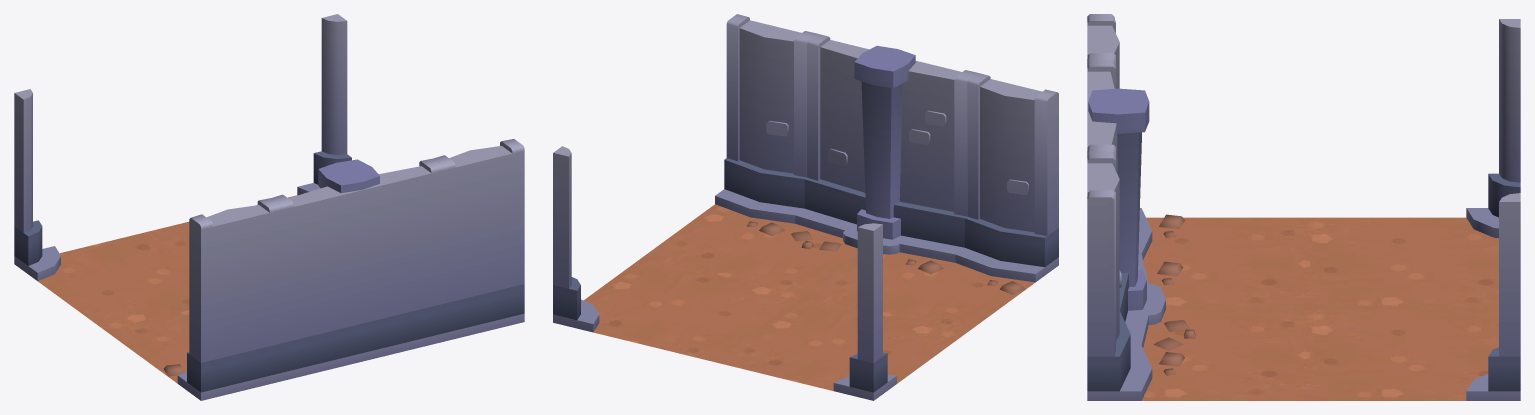
Rendered from corridor-wide-junction.glb.
The picture shows the model from 3 angles, left to right: view 1: azimuth 30°, elevation 25°; view 2: azimuth 150°, elevation 25°; view 3: azimuth 270°, elevation 25°; orthographic projection. The views are drawn at different scales.
Visible parts, largest first — view 1: corridor-wide-junction; view 2: corridor-wide-junction; view 3: corridor-wide-junction.
Part boxes in pixels (x1=…): corridor-wide-junction: x1=14, y1=14, x2=524, y2=400; corridor-wide-junction: x1=553, y1=14, x2=1058, y2=400; corridor-wide-junction: x1=1087, y1=14, x2=1520, y2=400.
Size of the model in its own units: 8 by 4.23 by 8.
Materials: 1 (1 with a texture image).
